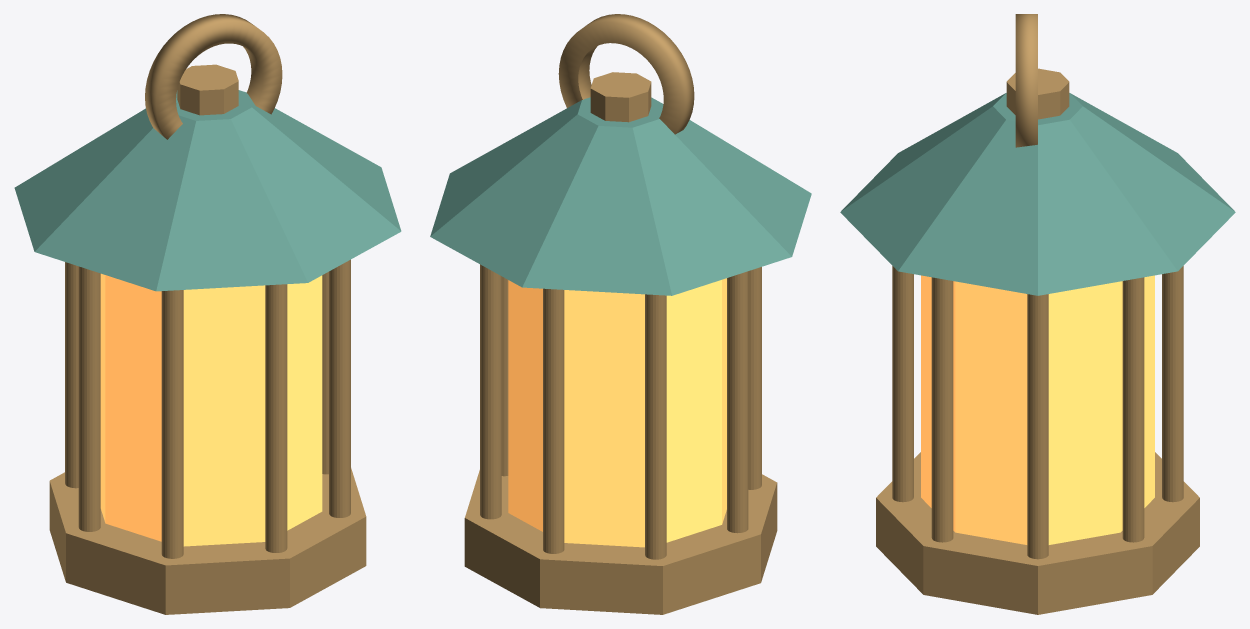
Rendered from fantasy-bathhouse-and-thermal-sanctuary-fantasy-bathho-90f3d683__29472.glb.
3 views of the same model, side by side, from view 1: azimuth 30°, elevation 25°; view 2: azimuth 150°, elevation 25°; view 3: azimuth 270°, elevation 25° (orthographic).
Visible parts, largest first — view 1: fantasy-bathhouse-and-thermal-sanctuary-hanging-lantern; view 2: fantasy-bathhouse-and-thermal-sanctuary-hanging-lantern; view 3: fantasy-bathhouse-and-thermal-sanctuary-hanging-lantern.
Part boxes in pixels (box(x1,y1,x2,y2)): fantasy-bathhouse-and-thermal-sanctuary-hanging-lantern: box(14, 14, 401, 614); fantasy-bathhouse-and-thermal-sanctuary-hanging-lantern: box(430, 14, 811, 614); fantasy-bathhouse-and-thermal-sanctuary-hanging-lantern: box(840, 14, 1235, 614).
Bounding box in the file's own units: 0.44 × 0.645 × 0.44.
